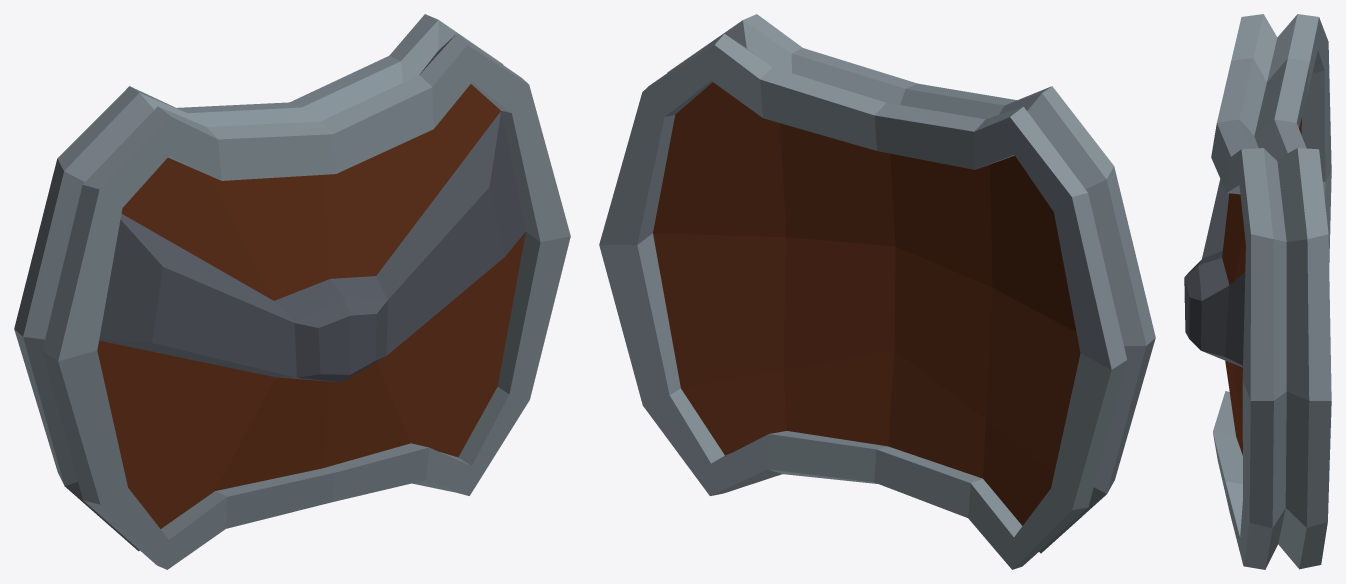
The model's file is Wide.fbx.
3 renders of one model, left to right at view 1: azimuth 30°, elevation 25°; view 2: azimuth 150°, elevation 25°; view 3: azimuth 270°, elevation 25°, orthographic. The views are drawn at different scales.
Visible parts, largest first — view 1: Wide; view 2: Wide; view 3: Wide.
Boxes of the visible parts, x1,y1,x2,y2 form: Wide: [14, 14, 570, 569]; Wide: [599, 14, 1155, 569]; Wide: [1184, 14, 1331, 569].
Size of the model in its own units: 64.01 by 54.19 by 17.14.
